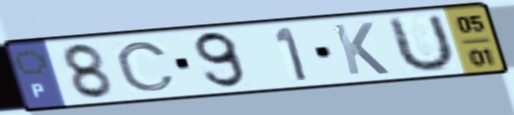1: (271, 25, 312, 84)
8: (60, 41, 114, 101)
9: (191, 30, 249, 91)
C: (113, 39, 179, 93)
K: (329, 20, 393, 78)
U: (386, 11, 458, 76)
